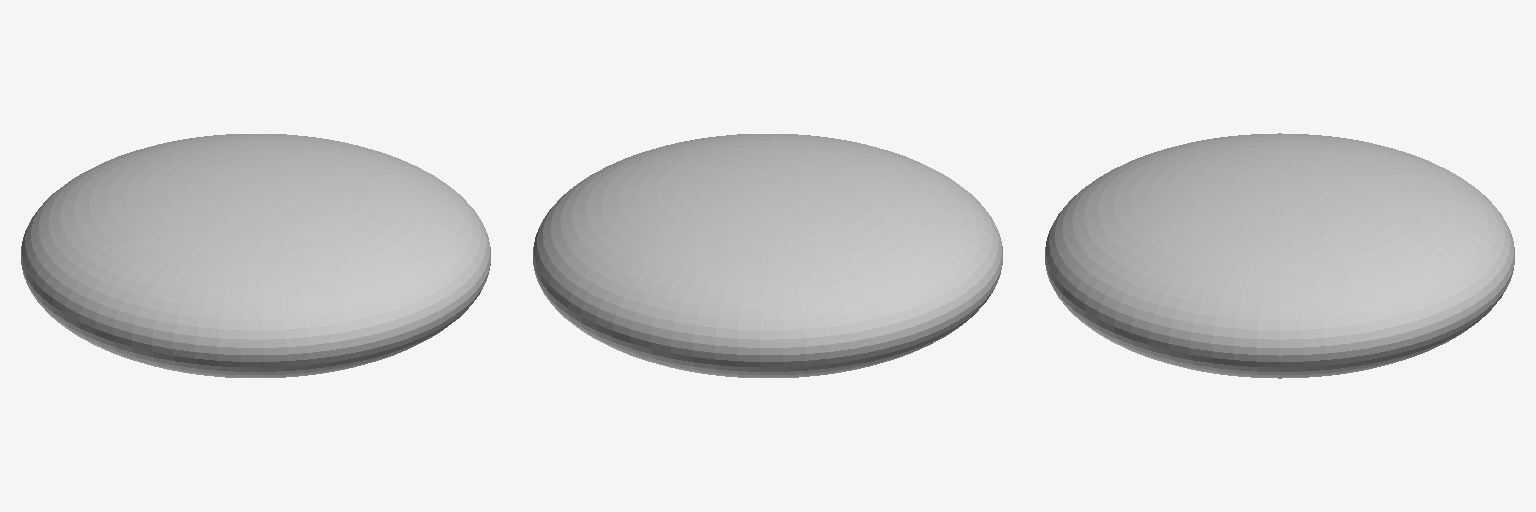
Rendered from Mesh_SkyClock_BG.obj.
3 renders of one model, left to right at view 1: azimuth 30°, elevation 25°; view 2: azimuth 150°, elevation 25°; view 3: azimuth 270°, elevation 25°, orthographic.
Visible parts, largest first — view 1: Mesh_SkyClock_BG_Sphere; view 2: Mesh_SkyClock_BG_Sphere; view 3: Mesh_SkyClock_BG_Sphere.
Boxes of the visible parts, box(x1,y1,x2,y2) form: Mesh_SkyClock_BG_Sphere: box(21, 134, 490, 377); Mesh_SkyClock_BG_Sphere: box(533, 134, 1002, 377); Mesh_SkyClock_BG_Sphere: box(1045, 133, 1514, 378).
Size of the model in its own units: 506 by 170 by 506.